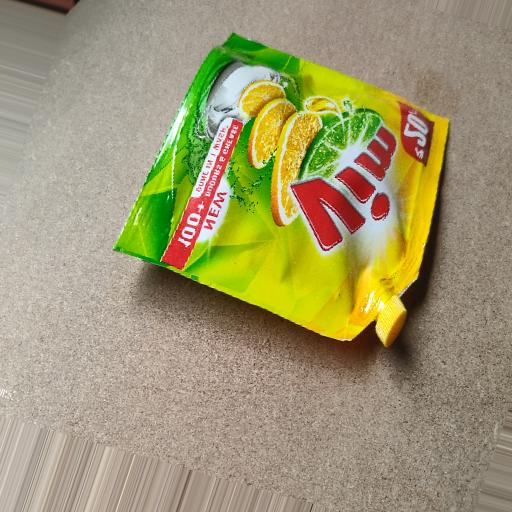VIM Dishwash liquid: (79, 3, 487, 408)
